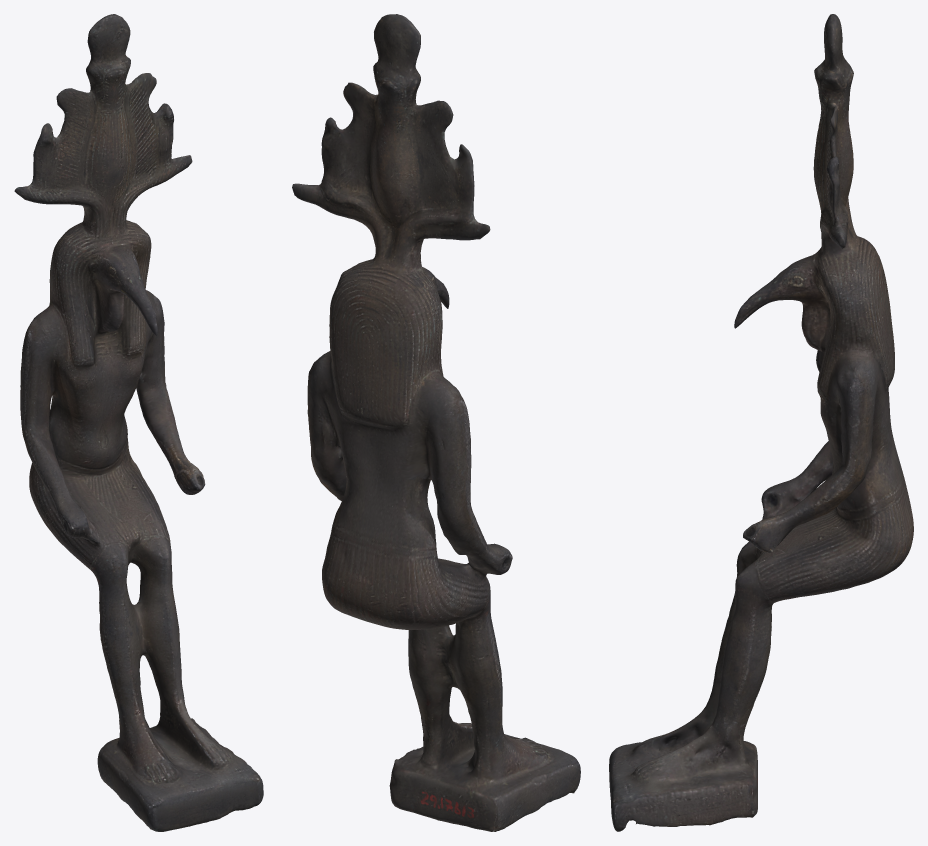
File: thoth.fbx
3 views of the same model, side by side, from view 1: azimuth 30°, elevation 25°; view 2: azimuth 150°, elevation 25°; view 3: azimuth 270°, elevation 25° (orthographic). The views are drawn at different scales.
Parts seen in each view (by area): view 1: 180810_mia348_000372_OBJ; view 2: 180810_mia348_000372_OBJ; view 3: 180810_mia348_000372_OBJ.
Boxes of the visible parts, box(x1,y1,x2,y2) form: 180810_mia348_000372_OBJ: box(14, 14, 263, 831); 180810_mia348_000372_OBJ: box(292, 14, 580, 831); 180810_mia348_000372_OBJ: box(609, 14, 913, 831).
Size of the model in its own units: 118 by 484 by 166.
1 material, 1 textured.
